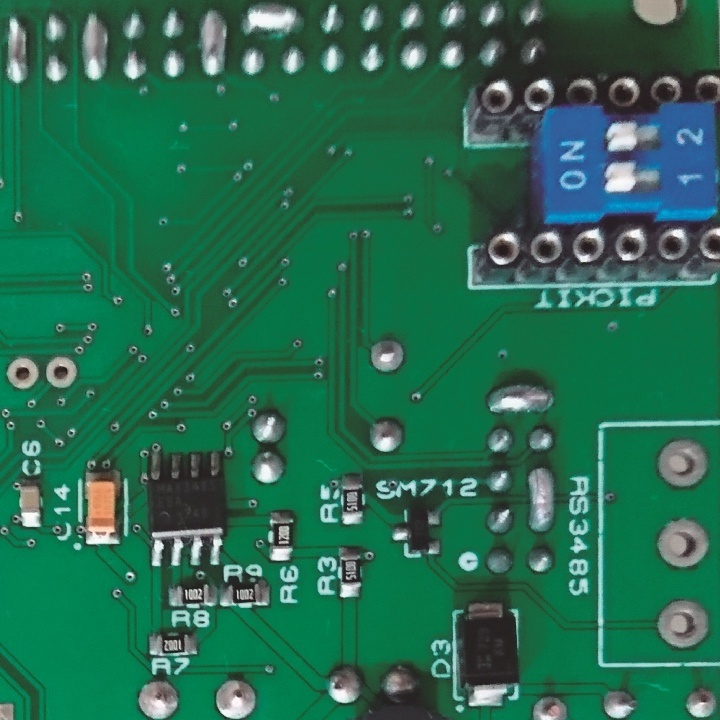F: (654, 515, 711, 574), (654, 596, 711, 652), (655, 438, 711, 492), (211, 675, 259, 720), (136, 676, 179, 720), (369, 336, 406, 379), (681, 681, 720, 720), (5, 354, 41, 394), (600, 684, 640, 720), (44, 354, 80, 392), (527, 691, 572, 720)
P: (484, 379, 560, 420), (240, 1, 307, 41), (196, 4, 230, 82), (526, 463, 560, 541), (81, 9, 112, 85), (2, 16, 33, 89)
